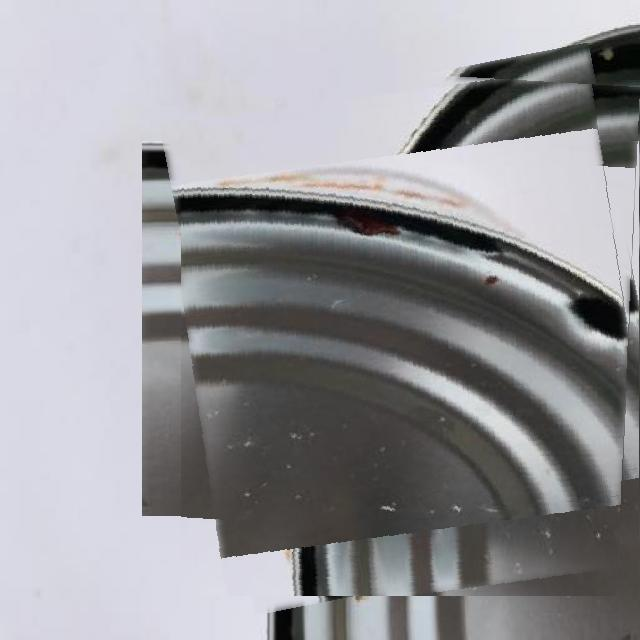recyclable: (181, 60, 640, 596)
